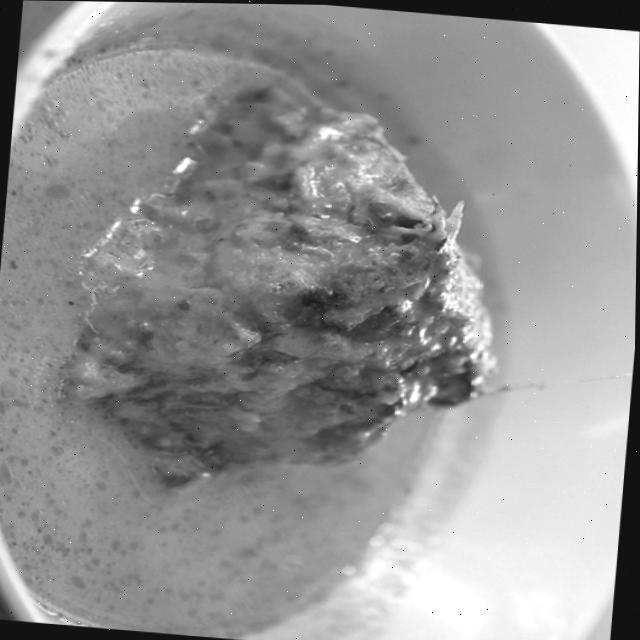熟制海鲜: (0, 0, 631, 636)
